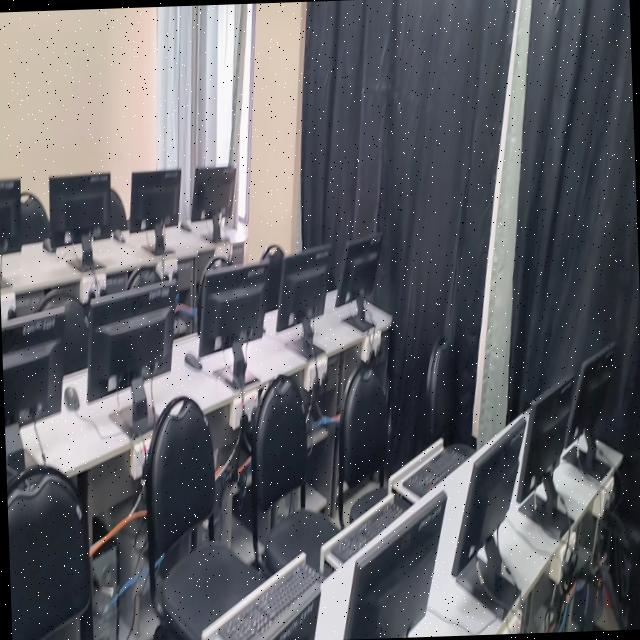Chair: (142, 395, 263, 640), (251, 374, 337, 575), (5, 464, 90, 640), (337, 361, 387, 496), (46, 292, 87, 373), (425, 335, 451, 442), (258, 243, 283, 309), (18, 191, 48, 242), (105, 187, 126, 231), (126, 267, 161, 287)
Cpu: (90, 544, 116, 640)
Keyboard: (200, 552, 321, 640), (324, 497, 410, 573), (393, 442, 473, 505)
Monitor: (338, 492, 444, 640), (85, 279, 174, 400), (450, 426, 522, 575), (0, 307, 68, 419), (515, 376, 575, 501), (196, 260, 271, 354), (561, 342, 613, 467), (48, 171, 114, 245), (275, 244, 328, 330), (334, 231, 381, 305), (189, 164, 234, 241), (127, 168, 180, 230), (270, 606, 316, 640), (0, 177, 19, 241)
Mouse: (62, 385, 78, 409), (183, 351, 201, 369), (41, 236, 54, 251), (111, 229, 124, 242), (179, 219, 190, 229)
